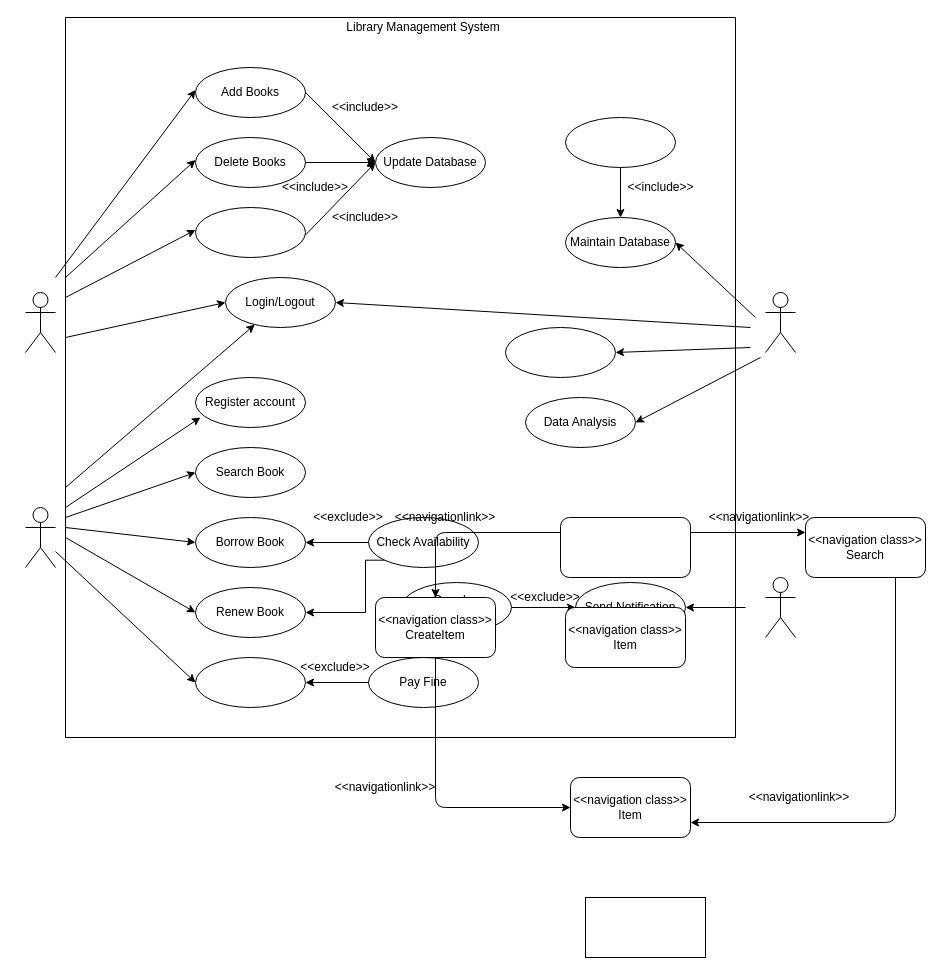
Some shapes in this 943 by 975 pixel diagram are drawn without their labels. The shapes that lost their labels are listed below. From the top down, each one's centre as x and y in pixels, then its label:
(x=620, y=142): Recover Data
(x=250, y=232): Update Books
(x=40, y=322): Librarian
(x=780, y=322): Administrator
(x=560, y=352): Create Librarian Account
(x=40, y=537): User
(x=625, y=547): <<navigation class>> Catalogue
(x=780, y=607): System
(x=250, y=682): Return Book
